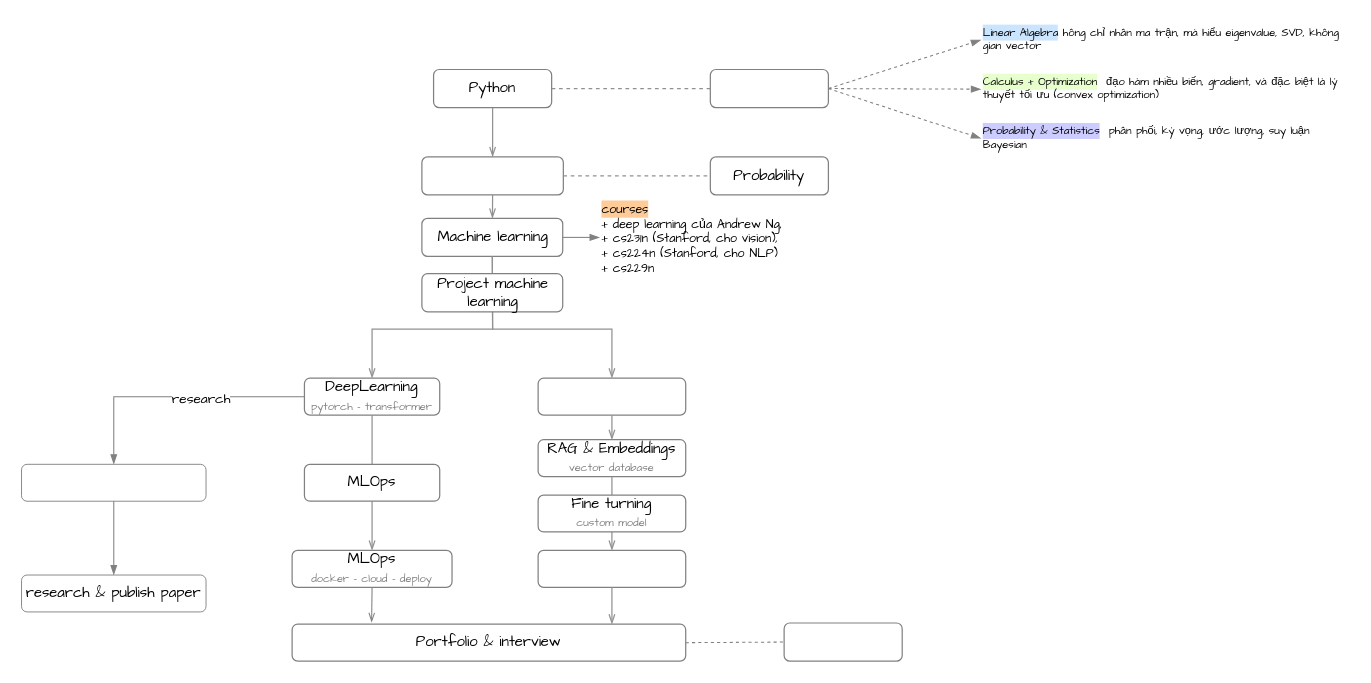
The diagram is 1371 pixels wide and 683 high, and some of its shapes have lost their labels. The shapes that lost their labels are listed below. From the top down, each one's box as (x1, y1, x2, y2) in pixels, then its label:
(709, 68, 828, 108): Math
(421, 156, 563, 195): Data & process numpy - pandas - SQL - EDA
(537, 377, 686, 415): LLM & API prompt engineer
(20, 463, 206, 501): read & active retelling paper
(537, 549, 686, 587): AI agents langChain - agentic
(783, 622, 902, 661): AI safety
